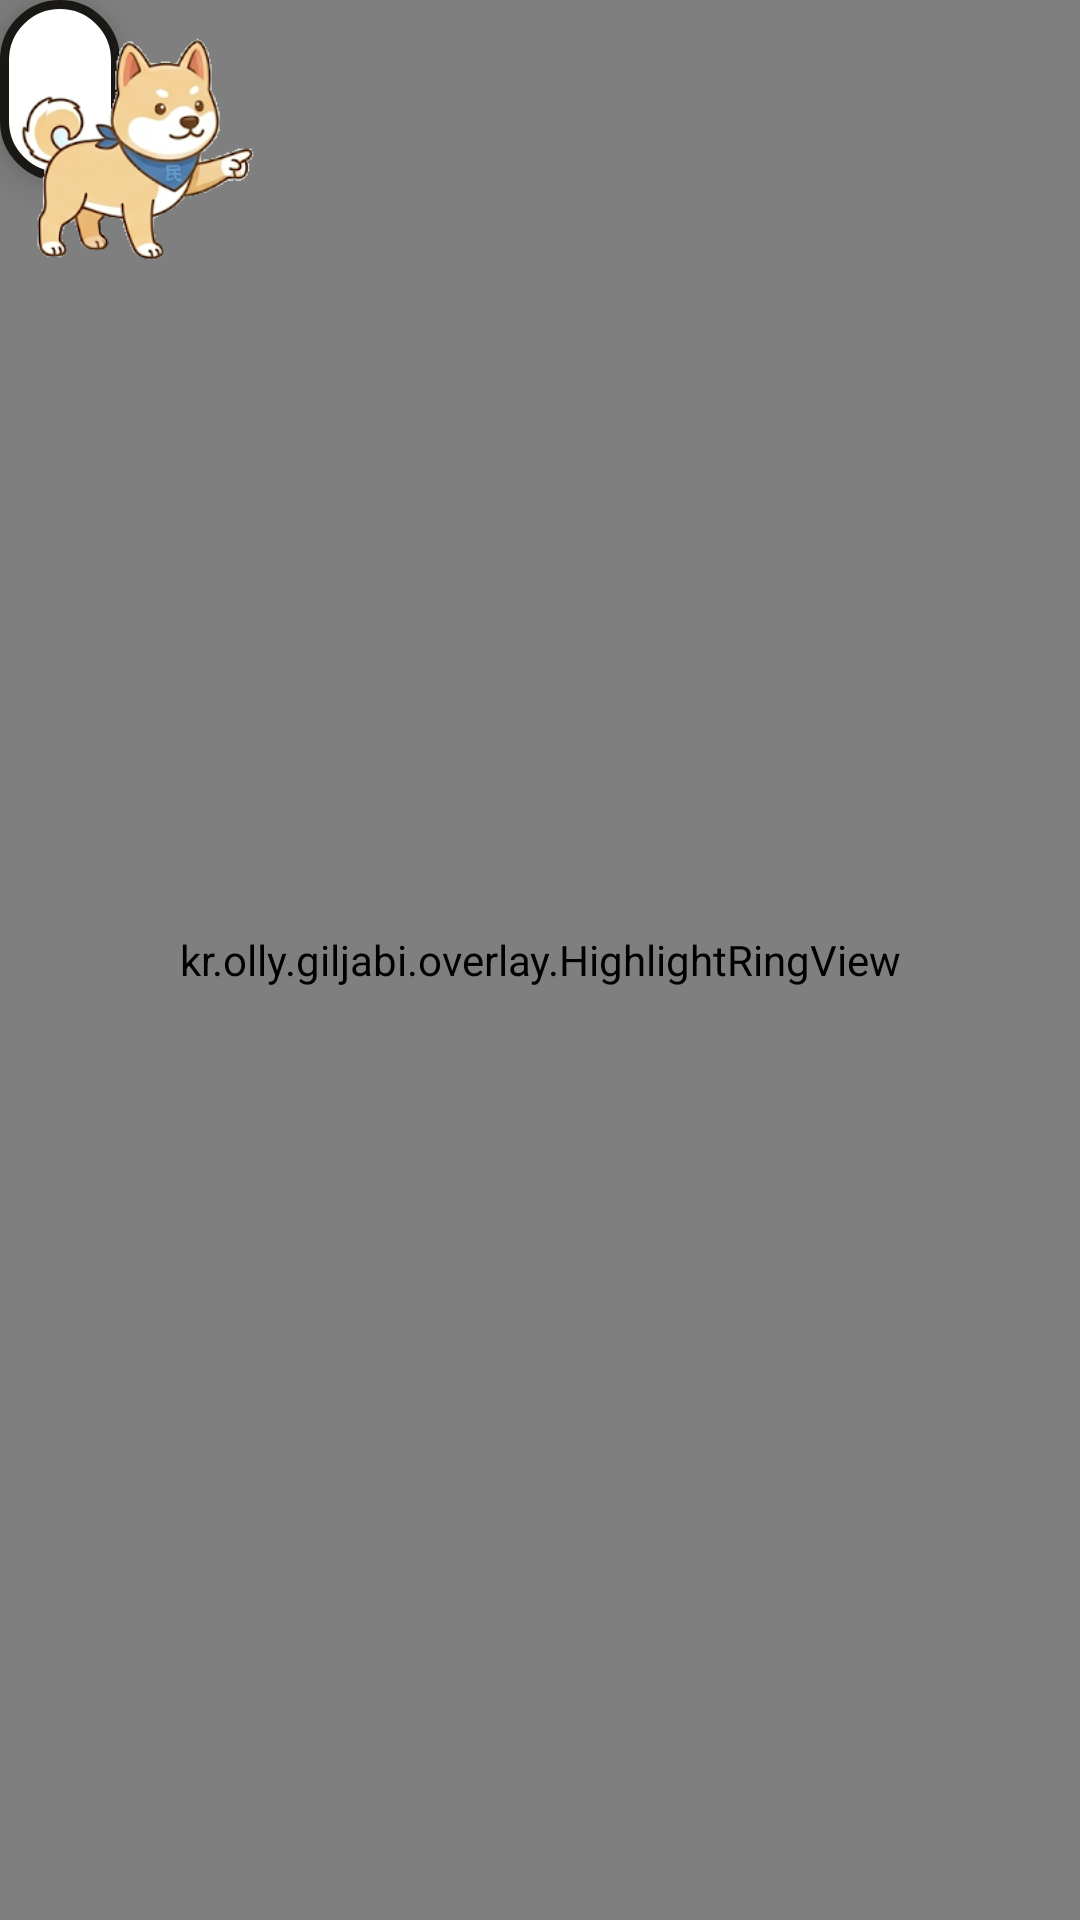

Where to tap for icons on this 1080px x 1920px app screen, as (x,y):
길잡이 안내원: (126,129)
